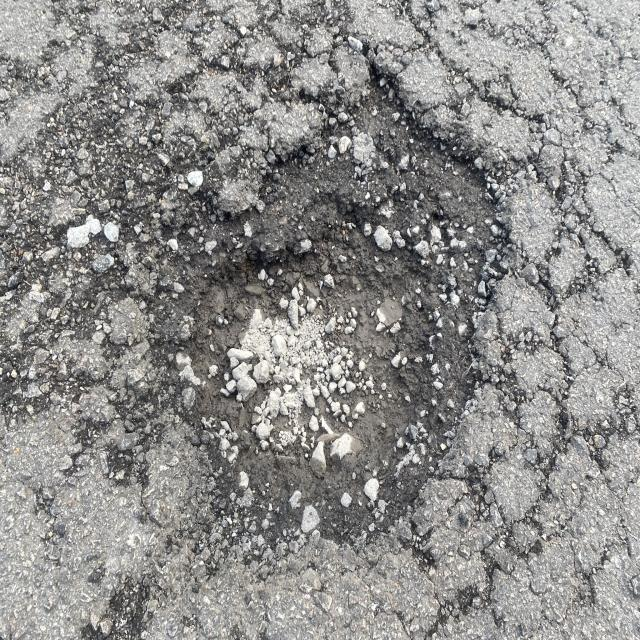pothole: (171, 0, 552, 595)
